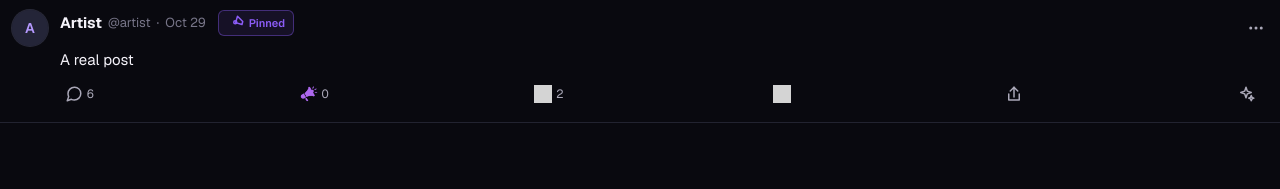
post pinning › shows the unpin option when the author's post is already pinned
Click the button named "Post options for Artist's post".
click(1256, 28)  # box [1238,10,1274,46]
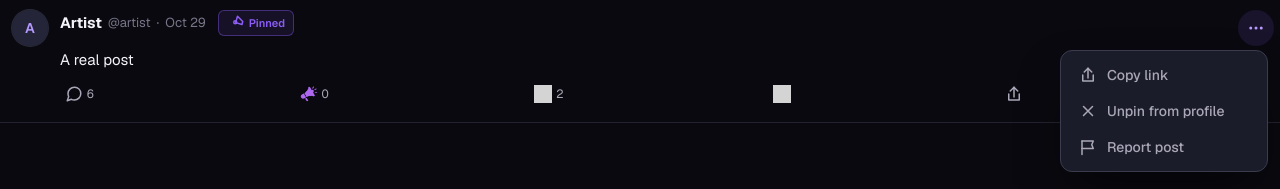
Result: the menu item "Unpin from profile" is shown at [1067,93,1261,129]
